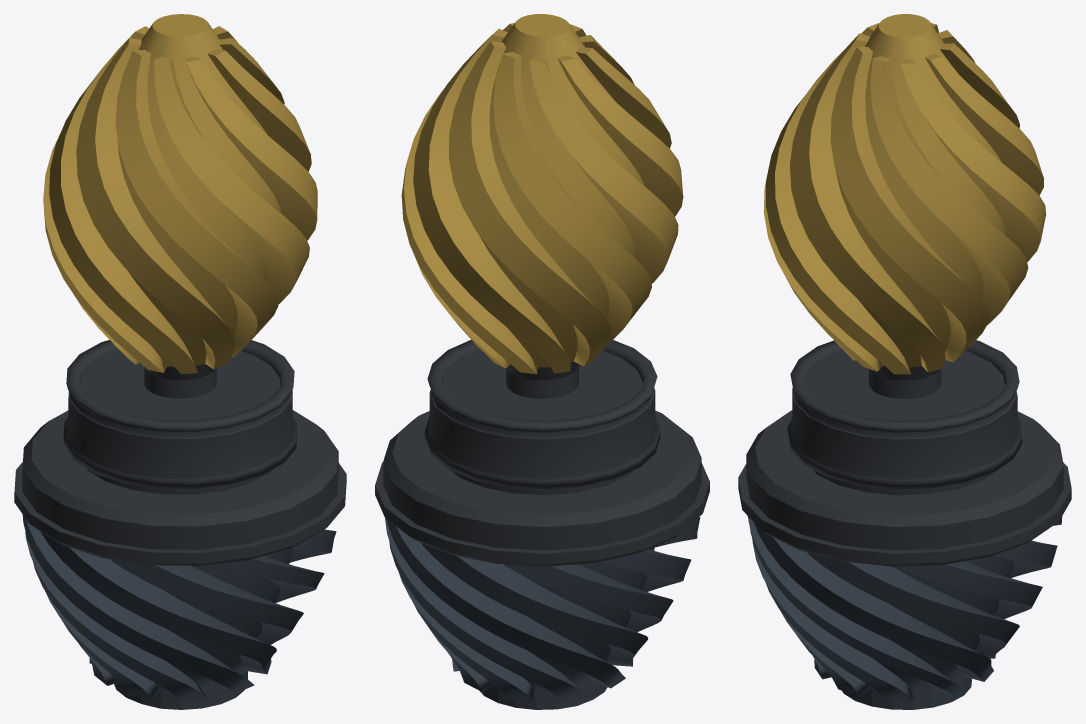
The model's file is Spiral.fbx.
3 renders of one model, left to right at view 1: azimuth 30°, elevation 25°; view 2: azimuth 150°, elevation 25°; view 3: azimuth 270°, elevation 25°, orthographic.
Parts seen in each view (by area): view 1: polySurface16, polySurface15, pCylinder15; view 2: polySurface16, polySurface15, pCylinder15; view 3: polySurface16, polySurface15, pCylinder15.
Boxes of the visible parts, x1,y1,x2,y2 form: polySurface16: (43,14,317,374); polySurface15: (14,340,346,565); pCylinder15: (22,515,336,709); polySurface16: (401,14,683,374); polySurface15: (375,340,709,566); pCylinder15: (385,517,700,709); polySurface16: (763,14,1046,374); polySurface15: (738,340,1071,566); pCylinder15: (747,516,1062,709).
Bounding box in the file's own units: 1.63 × 3.53 × 1.63.
